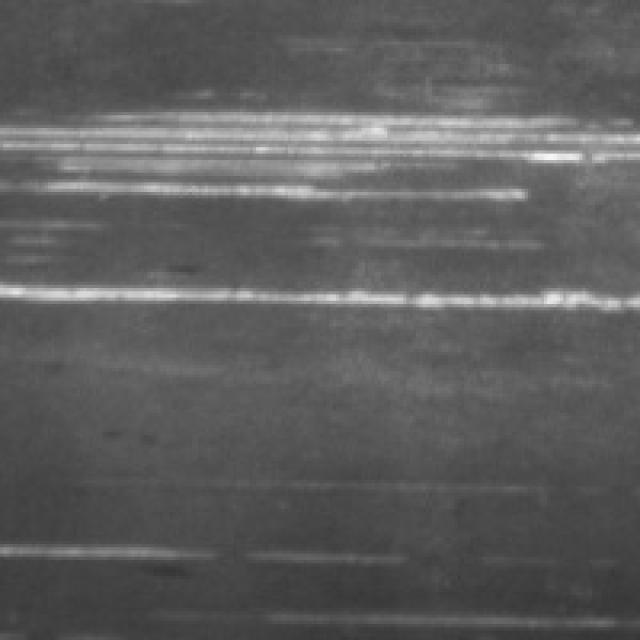scratches: (0, 102, 630, 204), (0, 262, 634, 314)
